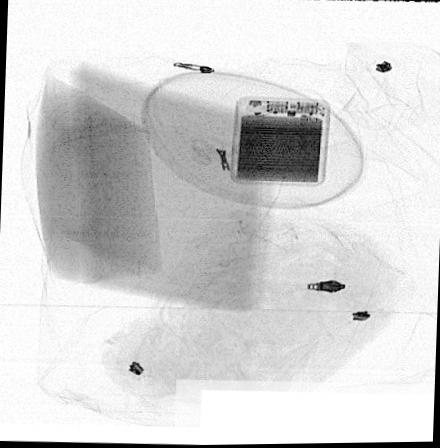Powerbank: (227, 97, 331, 189)
